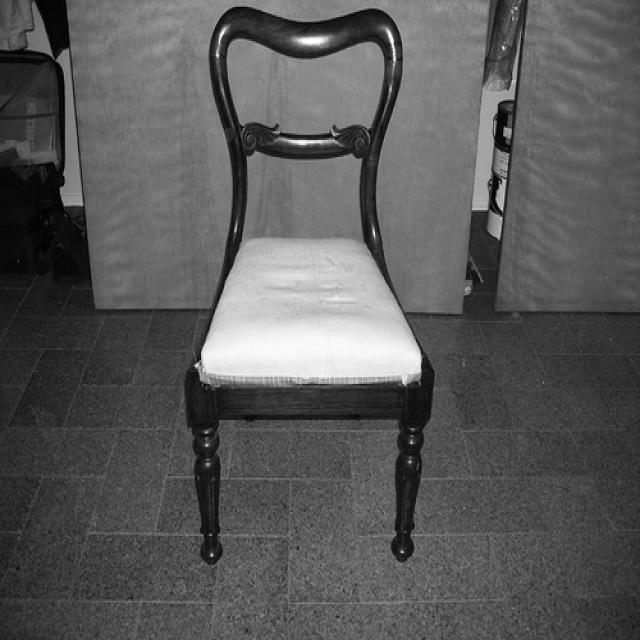chair: (186, 8, 434, 570)
